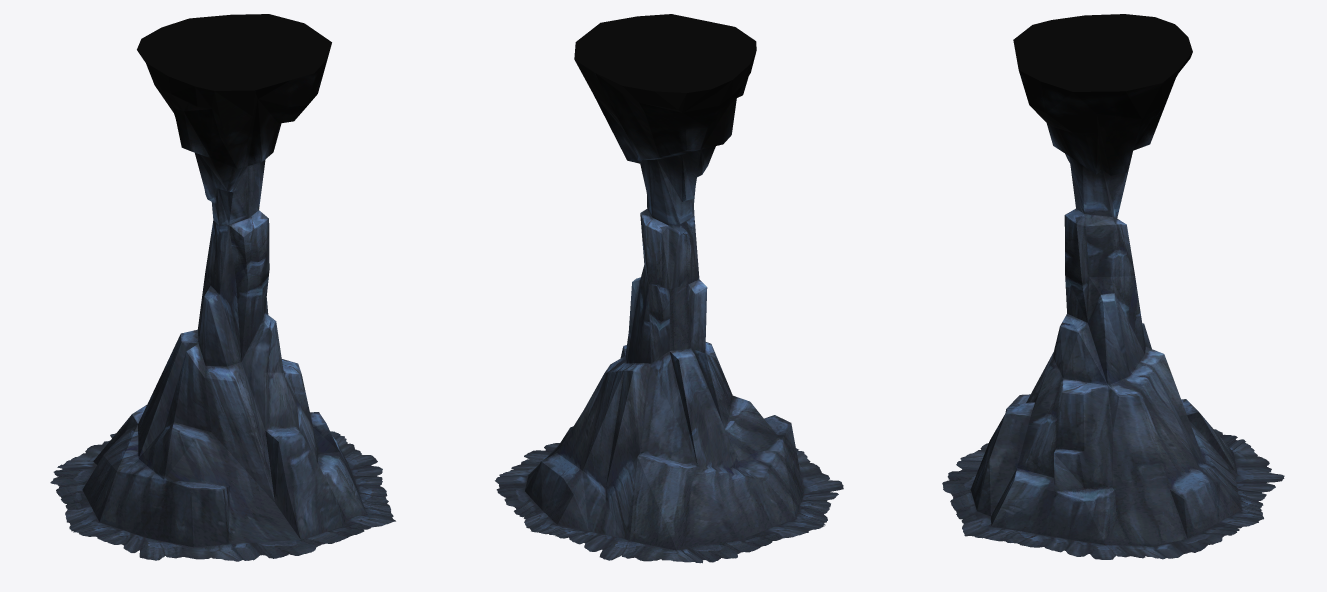
The model's file is mine_column_free_02.fbx.
3 views of the same model, side by side, from view 1: azimuth 30°, elevation 25°; view 2: azimuth 150°, elevation 25°; view 3: azimuth 270°, elevation 25° (orthographic).
Visible parts, largest first — view 1: obj1.028; view 2: obj1.028; view 3: obj1.028.
Part boxes in pixels (bbox=[...]): obj1.028: bbox=[50, 14, 395, 561]; obj1.028: bbox=[495, 14, 843, 563]; obj1.028: bbox=[942, 14, 1284, 559].
Bounding box in the file's own units: 9.69 × 11 × 9.19.
